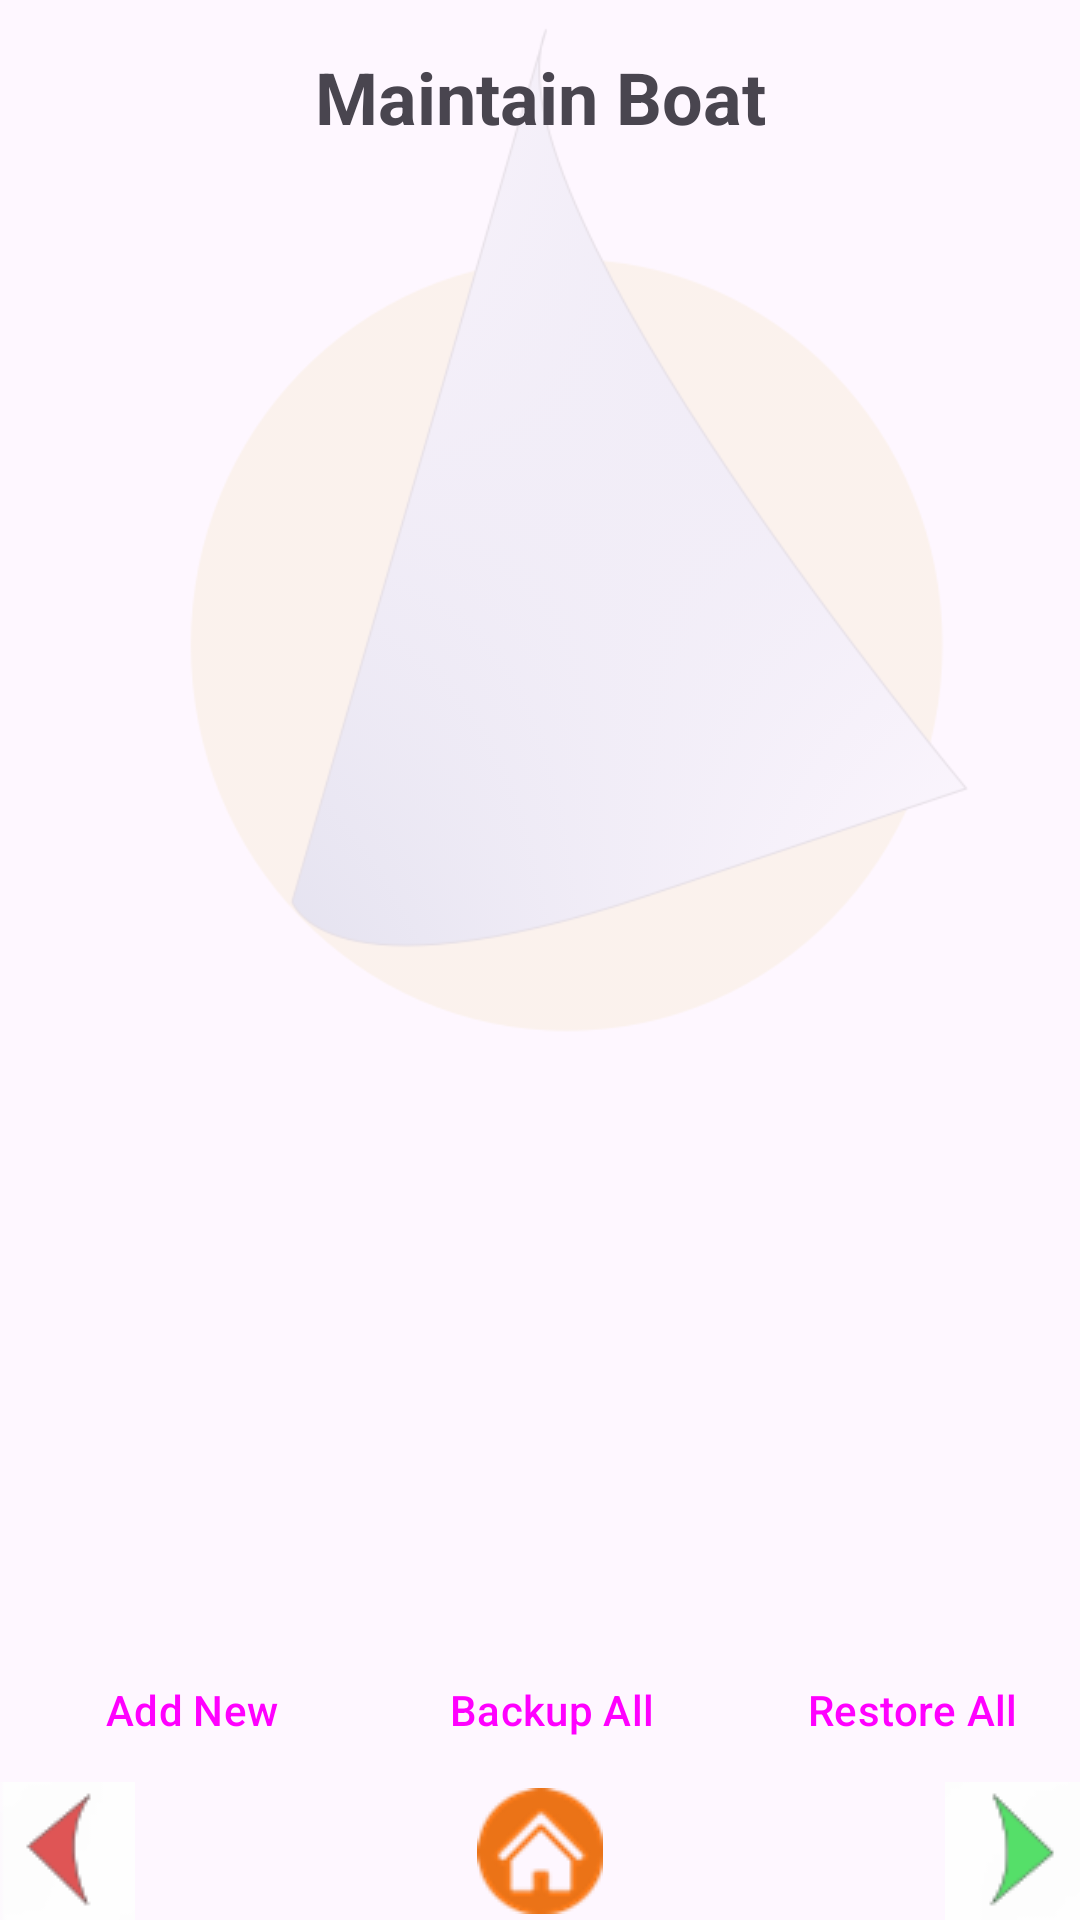

Icons on this 1080w x 1920h Android screen, each with its box as (x1,y1,x2,y2):
Home: (477,1788,603,1914)
Left Nav: (26,1793,91,1905)
Right Nav: (990,1793,1054,1905)
